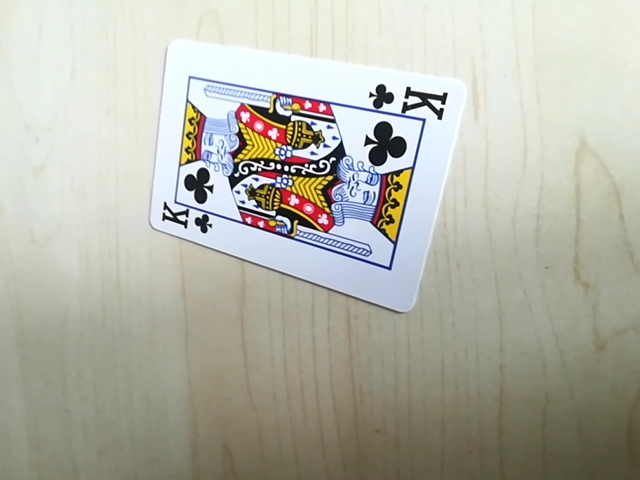mh k: (365, 80, 451, 119), (158, 203, 216, 236)
